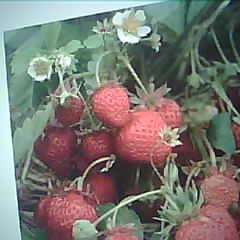straw-ripe: (116, 110, 171, 163)
